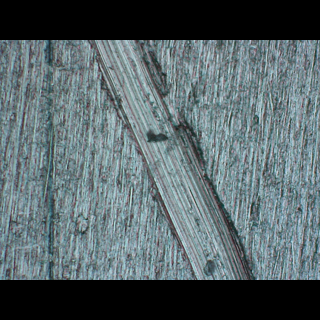d: (81, 40, 260, 279)
